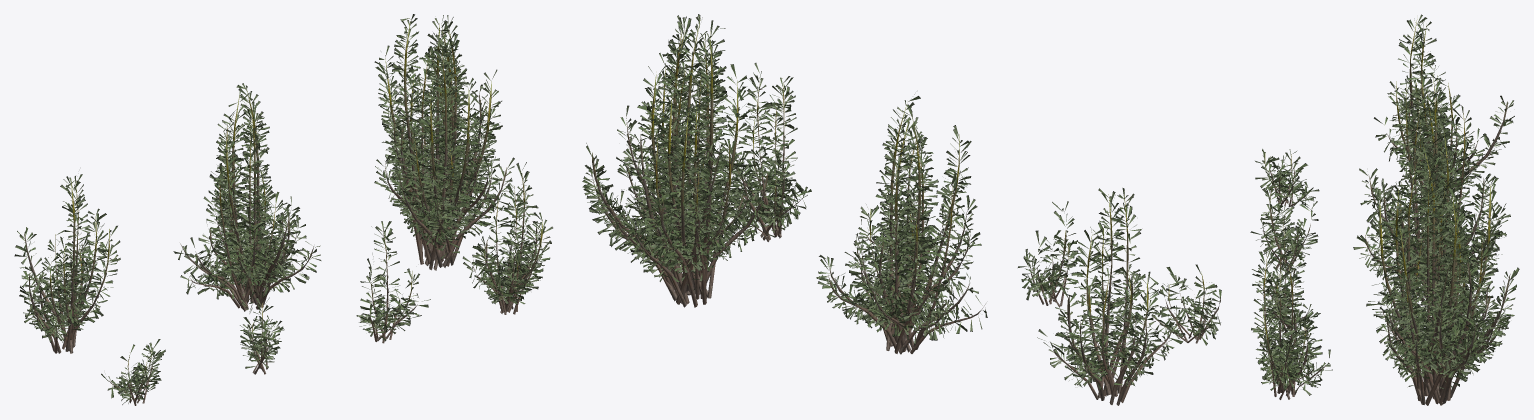
The model's file is othonna_cerarioides.glb.
3 views of the same model, side by side, from view 1: azimuth 30°, elevation 25°; view 2: azimuth 150°, elevation 25°; view 3: azimuth 270°, elevation 25° (orthographic). The views are drawn at different scales.
Visible parts, largest first — view 1: othonna_cerarioides_a; view 2: othonna_cerarioides_a; view 3: othonna_cerarioides_a.
Part boxes in pixels (bbox=[...]): othonna_cerarioides_a: bbox=[14, 14, 552, 405]; othonna_cerarioides_a: bbox=[582, 14, 1221, 405]; othonna_cerarioides_a: bbox=[1250, 14, 1519, 405].
Bounding box in the file's own units: 3.97 × 1.97 × 1.8.
Materials: 2 (2 with a texture image).
